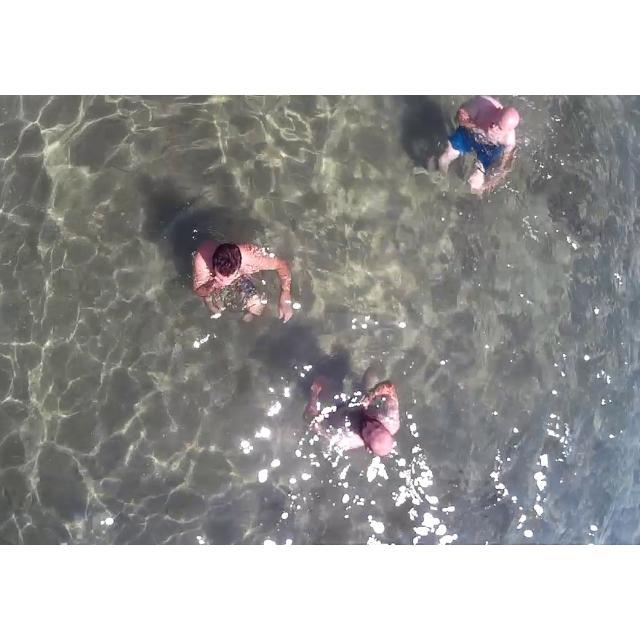human: (184, 225, 303, 334), (429, 95, 527, 202), (306, 367, 413, 461)
